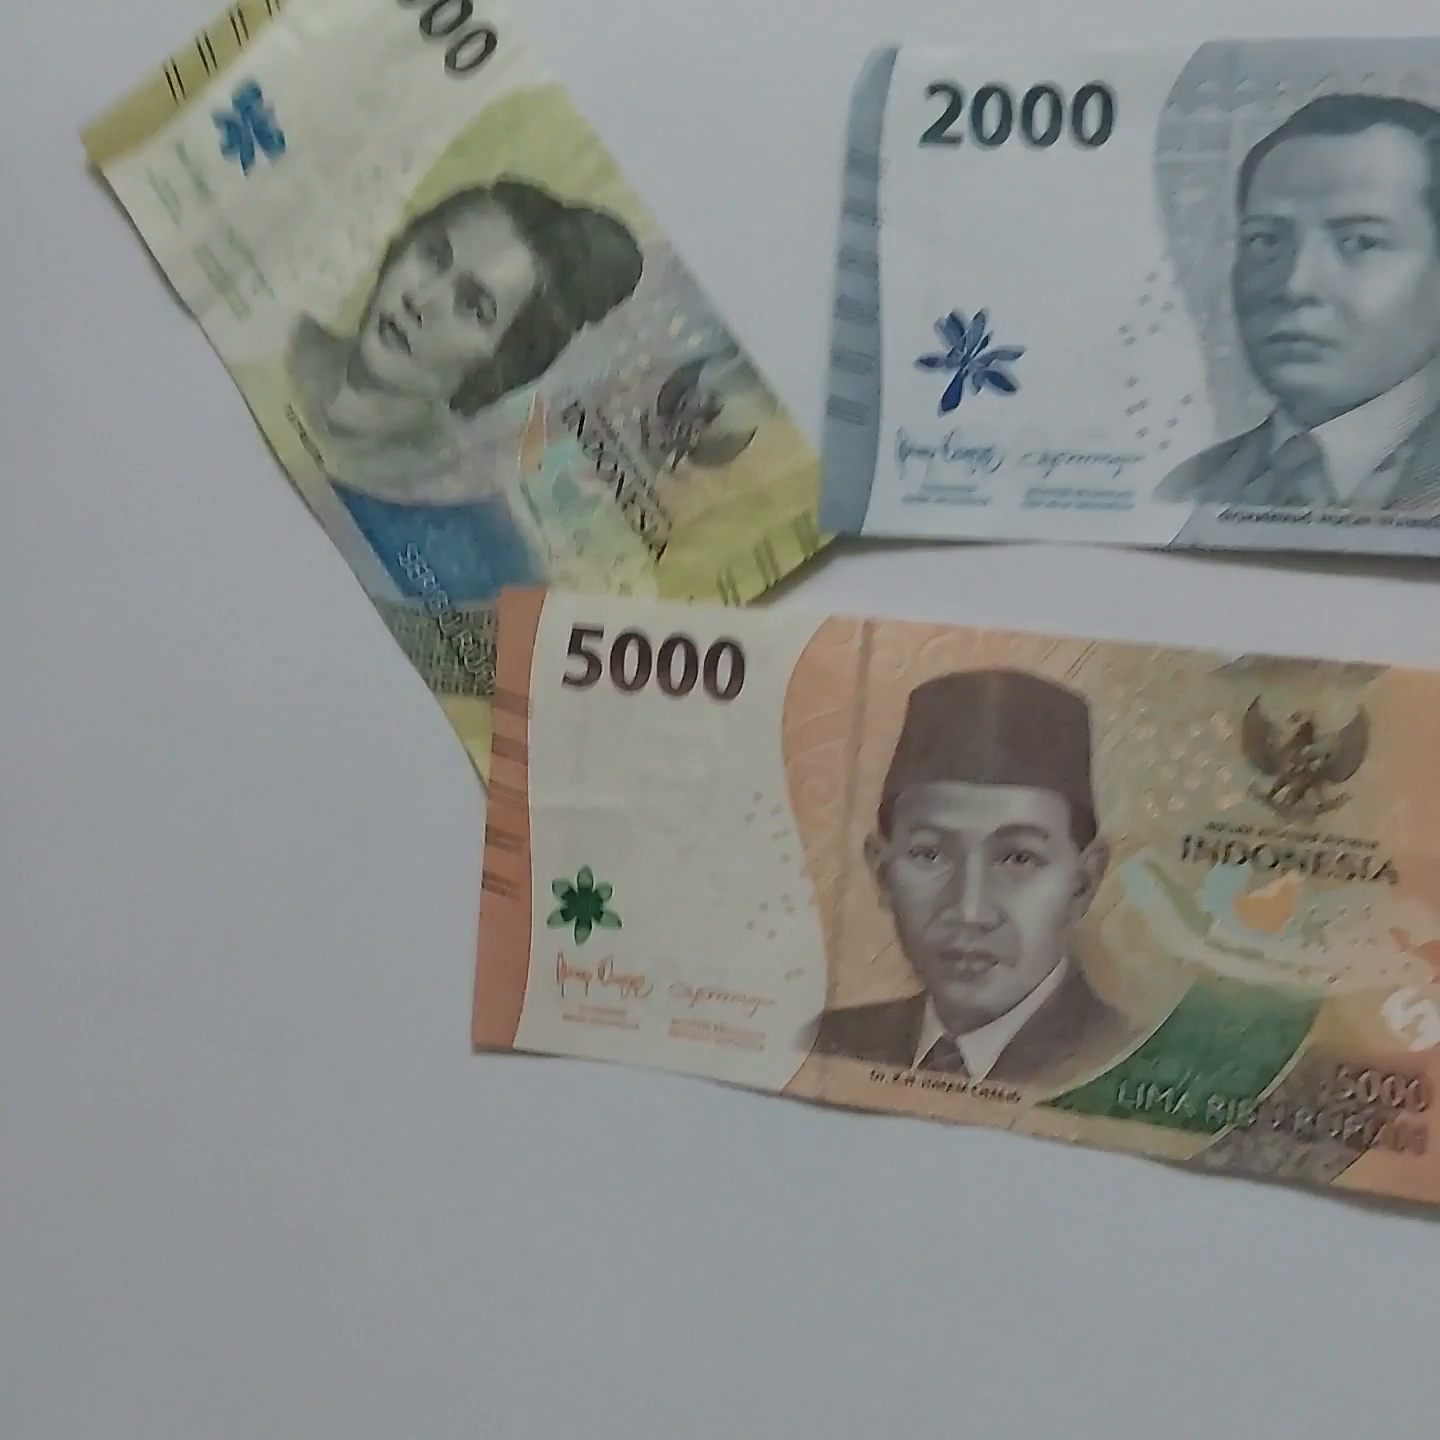1k: (53, 0, 831, 727)
2k: (811, 26, 1440, 558)
5k: (451, 547, 1440, 1187)
